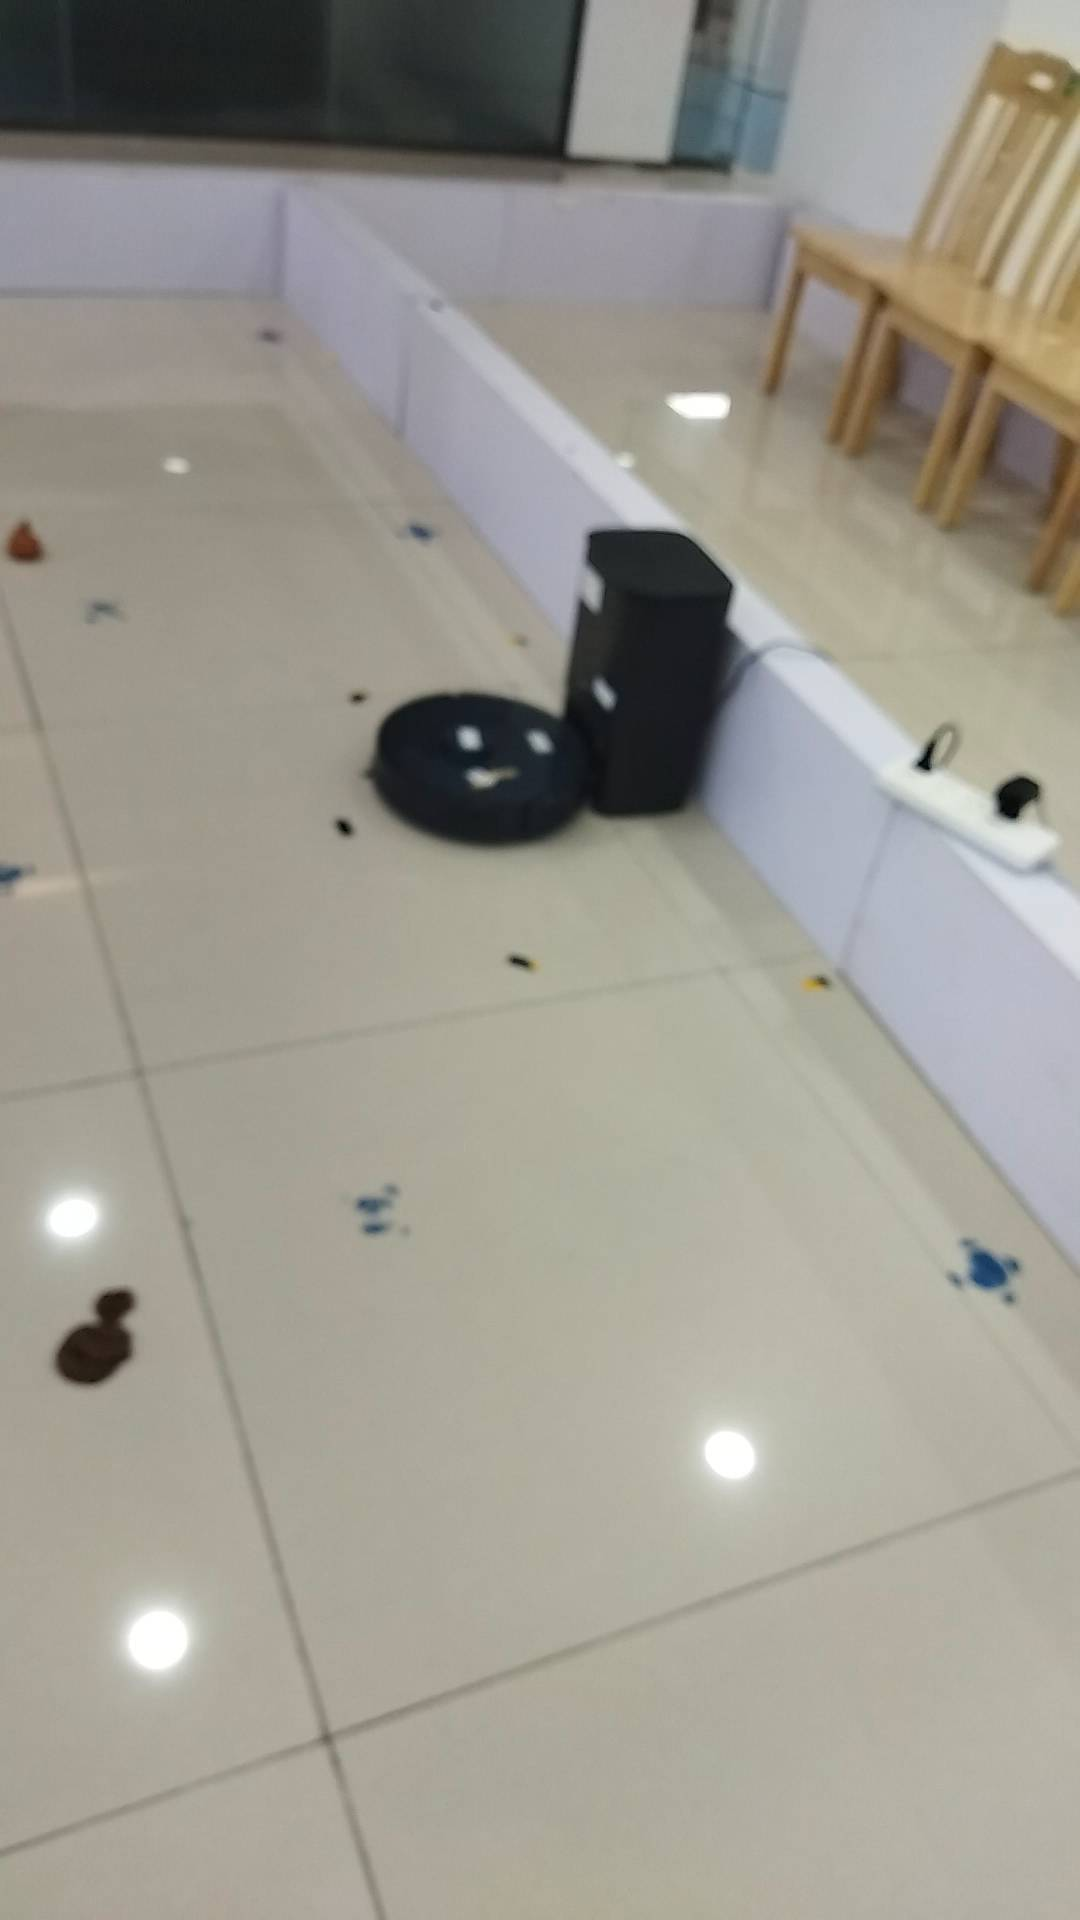dust collecting barrel: (568, 527, 733, 819)
